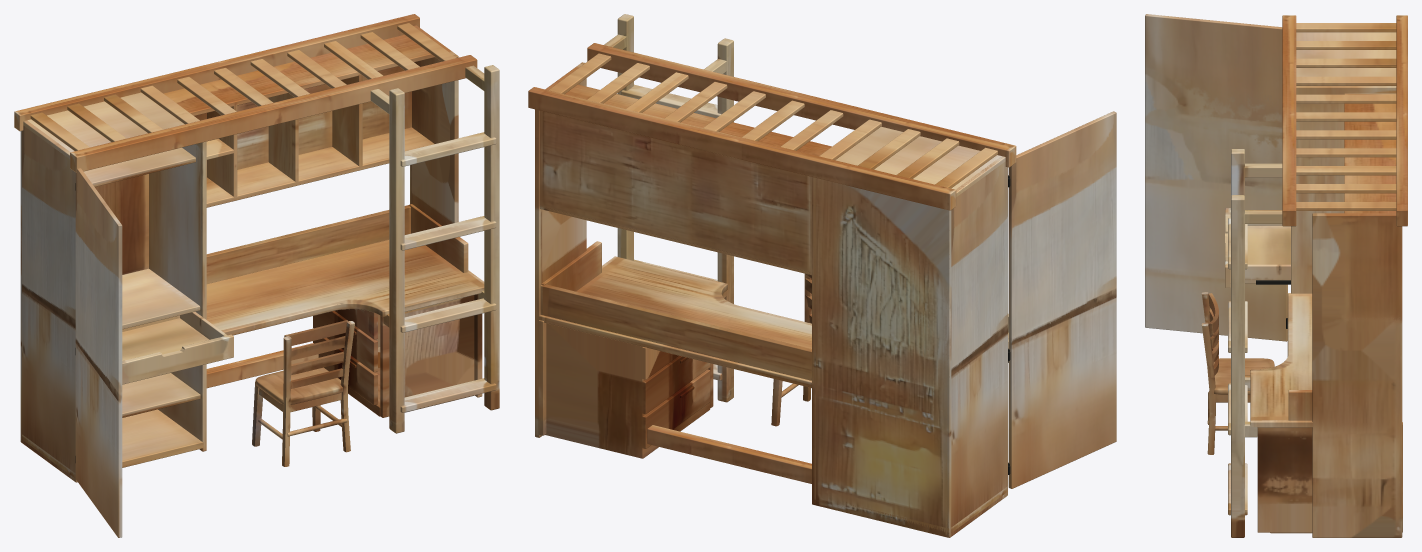
Rendered from agentic_0005_pack_glb_model_material_transferred.glb.
The picture shows the model from 3 angles, left to right: view 1: azimuth 30°, elevation 25°; view 2: azimuth 150°, elevation 25°; view 3: azimuth 270°, elevation 25°; orthographic projection. The views are drawn at different scales.
Parts seen in each view (by area): view 1: Cupboard outer side__asset, Open cupboard door__asset, Desk top with rounded return__asset, Cupboard and desk partition__asset, Loft front beam__asset, Right desk pedestal front__asset, Desk back upstand__asset, Right side panel__asset, Loft back beam__asset, Left ladder rail__asset, Right ladder rail__asset, Upper bookcase base__asset (+41 smaller); view 2: Cupboard back__asset, Open cupboard door__asset, Upper shelf back__asset, Cupboard outer side__asset, Right pedestal back__asset, Desk top with rounded return__asset, Loft back beam__asset, Desk back upstand__asset, Loft front beam__asset, Right side panel__asset, Cupboard roof__asset, Desk rear support rail__asset (+22 smaller); view 3: Open cupboard door__asset, Right side panel__asset, Right desk pedestal outer side__asset, Cupboard and desk partition__asset, Desk top with rounded return__asset, Right ladder rail__asset, Upper bookcase crown__asset, Loft front beam__asset, Cupboard roof__asset, Loft back beam__asset, Drawer bottom__asset, Loft bed slat 6__asset (+18 smaller).
Boxes of the visible parts, x1,y1,x2,y2 form: Cupboard outer side__asset: (22, 120, 77, 482); Open cupboard door__asset: (75, 168, 122, 537); Desk top with rounded return__asset: (206, 240, 484, 335); Cupboard and desk partition__asset: (149, 141, 206, 451); Loft front beam__asset: (70, 55, 477, 172); Right desk pedestal front__asset: (380, 295, 474, 417); Desk back upstand__asset: (206, 205, 410, 283); Right side panel__asset: (410, 25, 458, 225); Loft back beam__asset: (14, 14, 419, 131); Left ladder rail__asset: (389, 88, 404, 433); Right ladder rail__asset: (484, 65, 499, 410); Upper bookcase base__asset: (206, 127, 434, 207); Cupboard back__asset: (815, 178, 951, 537); Open cupboard door__asset: (1008, 111, 1116, 488); Upper shelf back__asset: (539, 110, 811, 272); Cupboard outer side__asset: (945, 156, 1007, 537); Right pedestal back__asset: (545, 323, 644, 458); Desk top with rounded return__asset: (535, 256, 812, 387); Loft back beam__asset: (528, 87, 956, 210); Desk back upstand__asset: (540, 284, 811, 380); Loft front beam__asset: (587, 43, 1016, 167); Right side panel__asset: (535, 62, 586, 437); Cupboard roof__asset: (835, 126, 1005, 196); Desk rear support rail__asset: (647, 425, 811, 483); Open cupboard door__asset: (1145, 14, 1287, 341); Right side panel__asset: (1312, 213, 1402, 537); Right desk pedestal outer side__asset: (1257, 422, 1402, 532); Cupboard and desk partition__asset: (1291, 86, 1396, 293); Desk top with rounded return__asset: (1250, 293, 1400, 427); Right ladder rail__asset: (1231, 195, 1244, 537); Upper bookcase crown__asset: (1344, 93, 1396, 225); Loft front beam__asset: (1282, 15, 1296, 226); Cupboard roof__asset: (1296, 32, 1396, 76); Loft back beam__asset: (1396, 15, 1407, 226); Drawer bottom__asset: (1245, 226, 1290, 282); Loft bed slat 6__asset: (1296, 112, 1396, 121).
Bounding box in the file's own units: 3.02 × 2.29 × 1.61.
Materials: 2 (1 with a texture image).
